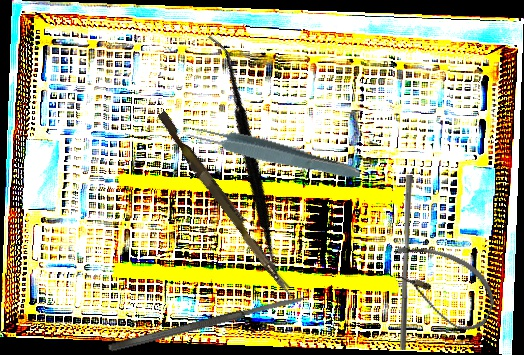Cannula: (377, 232, 506, 339)
Pusher: (152, 110, 300, 299), (400, 175, 413, 350)
Spatula Surgical: (120, 34, 378, 290), (106, 293, 307, 354)
Tissue Forceps: (182, 118, 364, 186)
